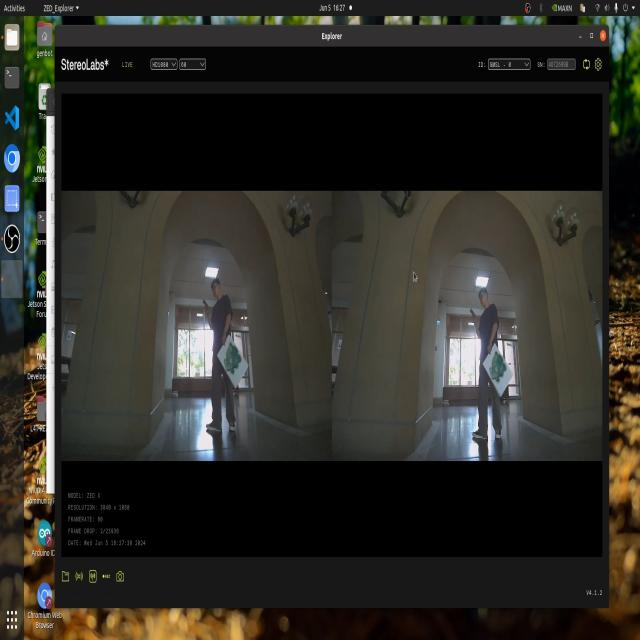green: (483, 356, 512, 392), (225, 336, 246, 376)
